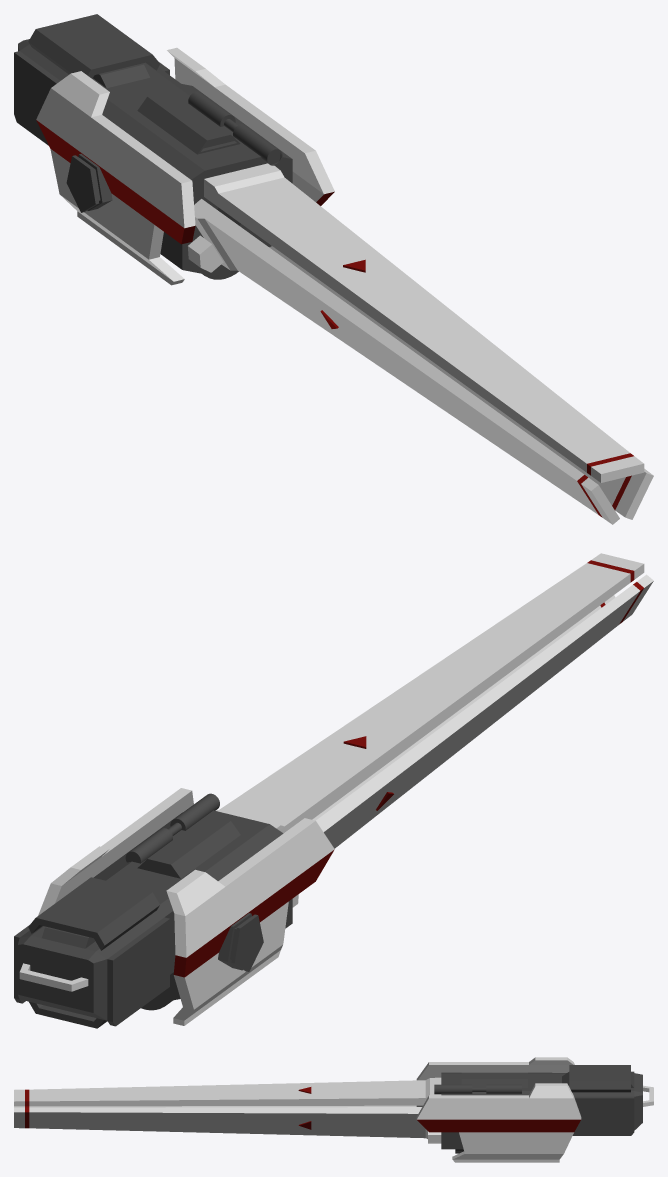
File: Cannon_02(L).fbx
3 renders of one model, top to bottom at view 1: azimuth 30°, elevation 25°; view 2: azimuth 150°, elevation 25°; view 3: azimuth 270°, elevation 25°, orthographic. The views are drawn at different scales.
Visible parts, largest first — view 1: Cube.003; view 2: Cube.003; view 3: Cube.003.
Boxes of the visible parts, bbox=[...] form: Cube.003: bbox=[14, 14, 653, 524]; Cube.003: bbox=[14, 553, 653, 1028]; Cube.003: bbox=[14, 1057, 653, 1162].
Bounding box in the file's own units: 31.26 × 27.07 × 196.
